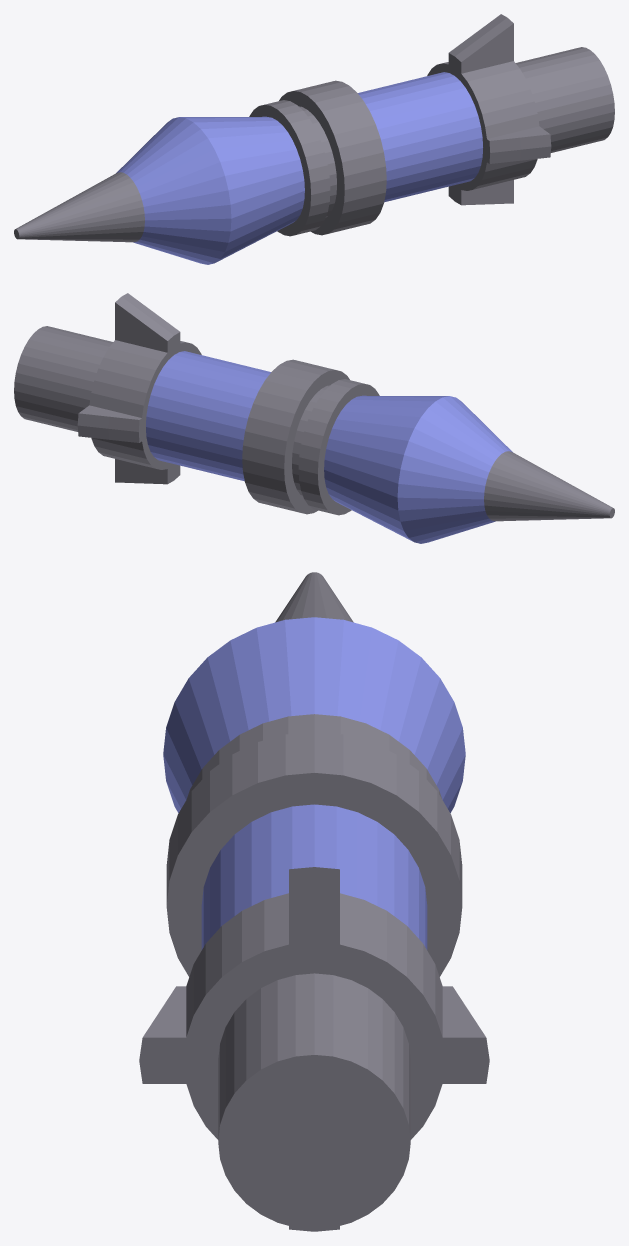
The model's file is Pocisk Grom.fbx.
3 views of the same model, one above another, from view 1: azimuth 30°, elevation 25°; view 2: azimuth 150°, elevation 25°; view 3: azimuth 270°, elevation 25° (orthographic). The views are drawn at different scales.
Parts seen in each view (by area): view 1: Cylinder.001; view 2: Cylinder.001; view 3: Cylinder.001.
Part boxes in pixels (<box>): Cylinder.001: <box>14,14,614,264</box>; Cylinder.001: <box>14,293,614,543</box>; Cylinder.001: <box>139,572,489,1231</box>.
Size of the model in its own units: 25.76 by 7.82 by 6.81.
